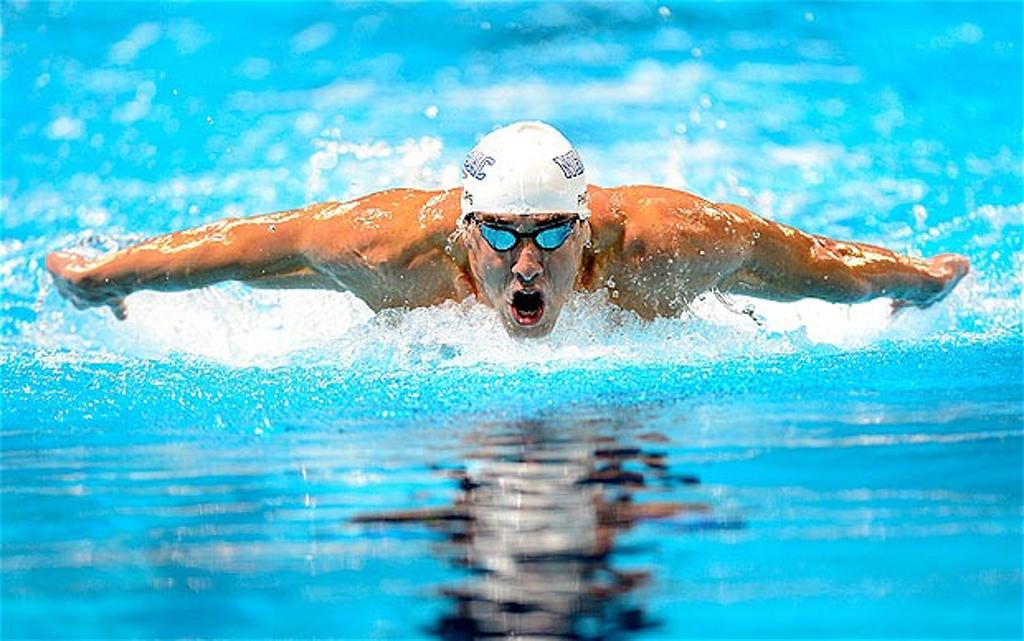face: (484, 186, 580, 334)
